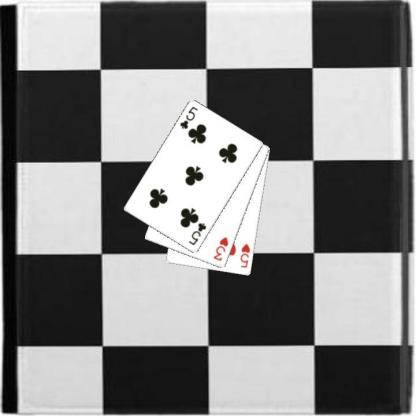3H: (211, 235, 229, 262)
5C: (177, 104, 199, 131), (186, 220, 207, 247)
5H: (238, 242, 251, 269)
